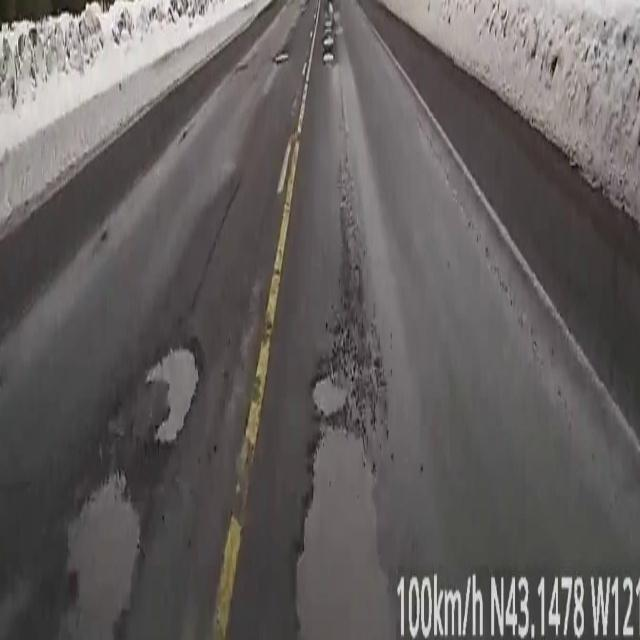pothole: (285, 358, 406, 640), (39, 463, 151, 640), (147, 345, 198, 443), (320, 0, 337, 69), (274, 44, 290, 64)
